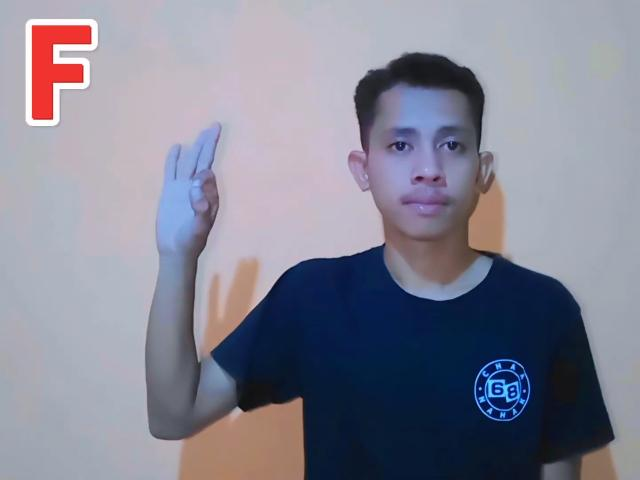F: (150, 120, 232, 264)
